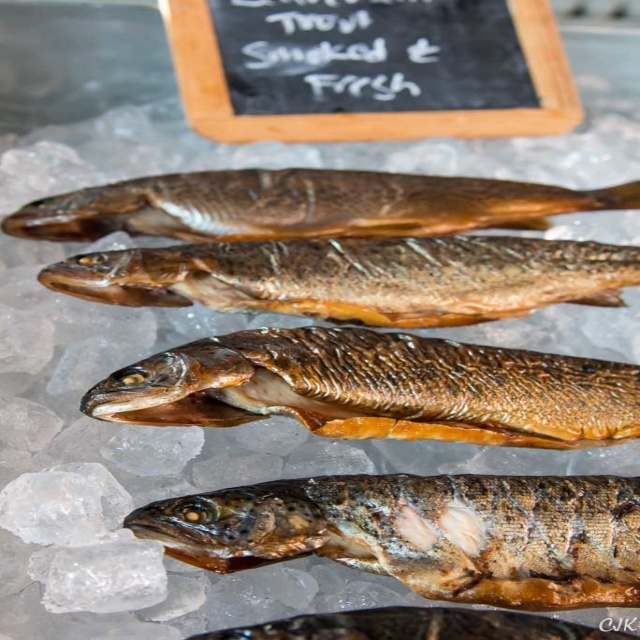Fish: (120, 474, 640, 614), (75, 326, 640, 454), (35, 237, 640, 330), (0, 171, 640, 243), (185, 607, 640, 640)
